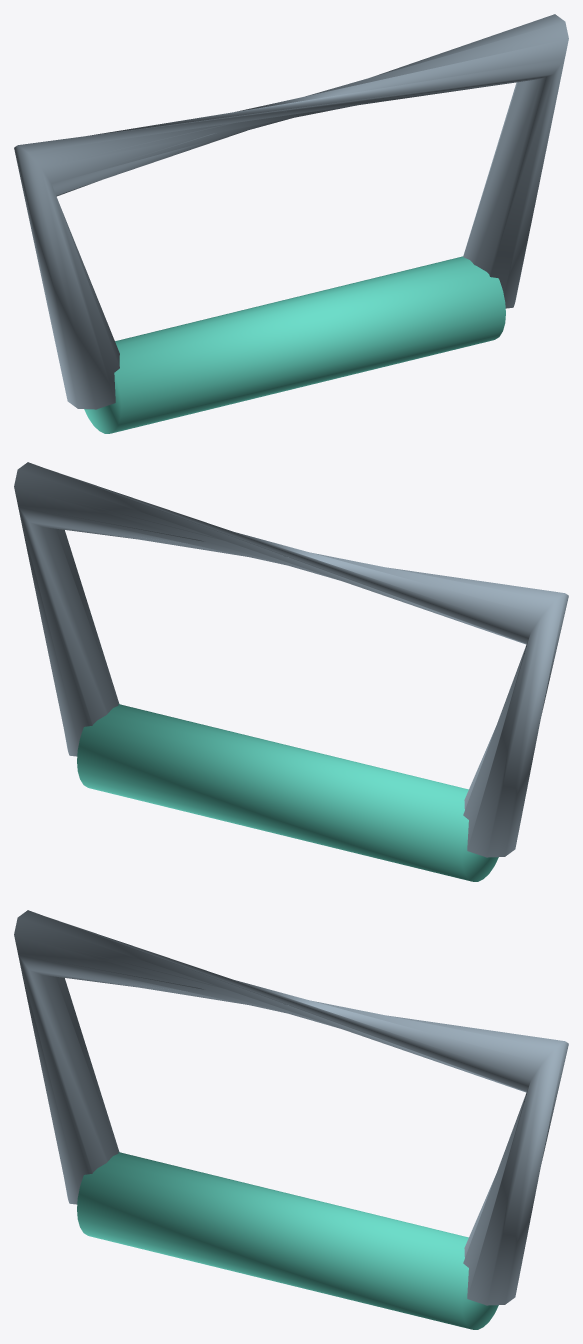
File: single_cable_handle.glb
The picture shows the model from 3 angles, top to bottom: view 1: azimuth 30°, elevation 25°; view 2: azimuth 150°, elevation 25°; view 3: azimuth 330°, elevation 25°; orthographic projection.
Parts seen in each view (by area): view 1: yoke, handle; view 2: yoke, handle; view 3: yoke, handle.
Boxes of the visible parts, left/top/right/bottom form: yoke: left=14, top=14, right=568, bottom=409; handle: left=84, top=256, right=505, bottom=433; yoke: left=14, top=462, right=568, bottom=857; handle: left=77, top=704, right=498, bottom=881; yoke: left=14, top=910, right=568, bottom=1305; handle: left=77, top=1152, right=498, bottom=1329.
Bounding box in the file's own units: 0.1677 × 0.0897 × 0.024.
